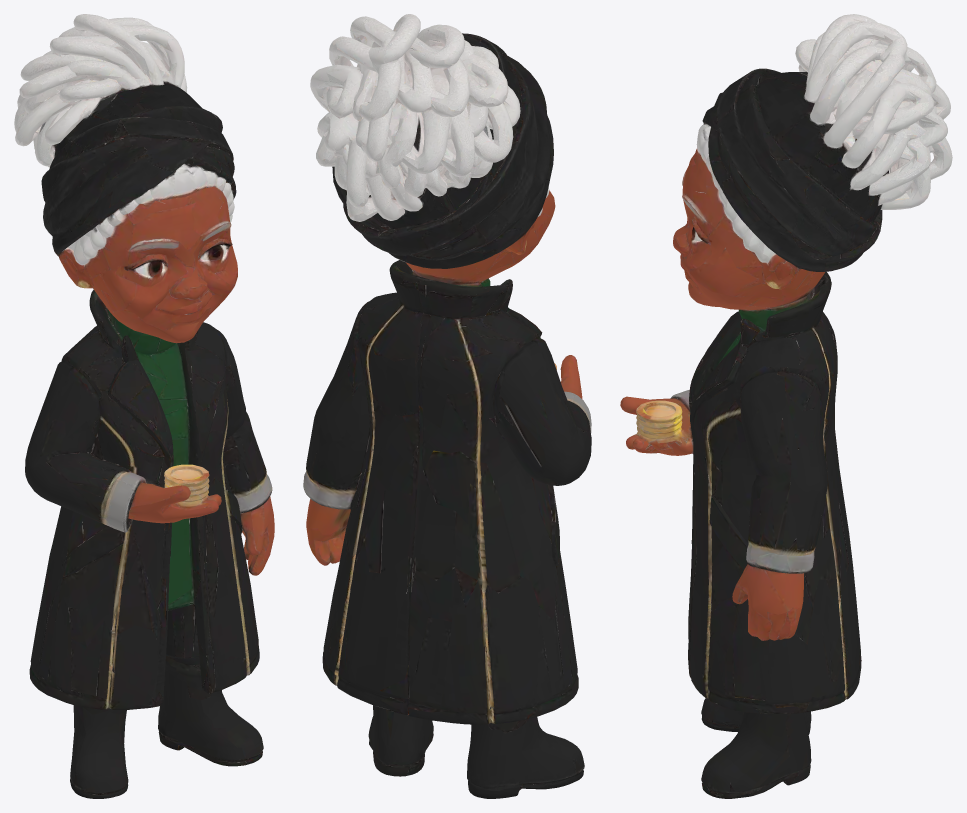
File: noor.glb
3 views of the same model, side by side, from view 1: azimuth 30°, elevation 25°; view 2: azimuth 150°, elevation 25°; view 3: azimuth 270°, elevation 25° (orthographic). The views are drawn at different scales.
Bounding box in the file's own units: 0.6803 × 1.9 × 0.7853.
Materials: 1 (1 with a texture image).
